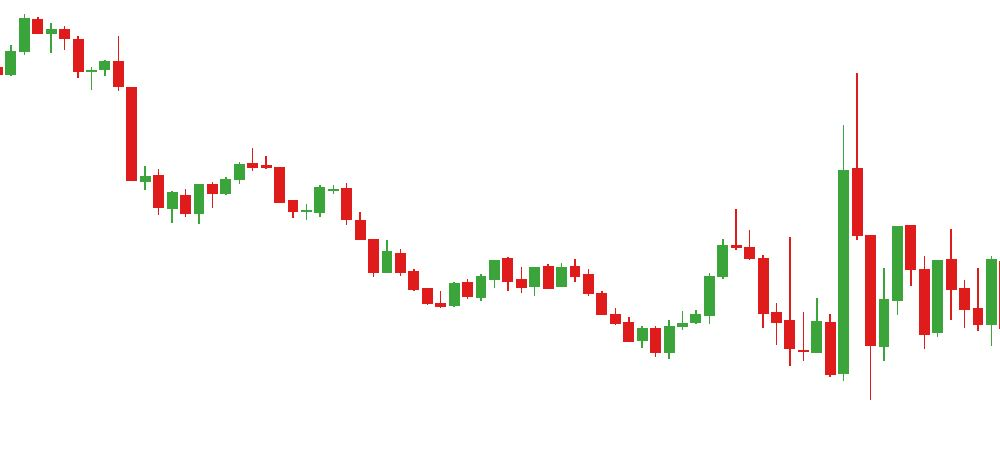sell: (487, 208, 756, 300)
